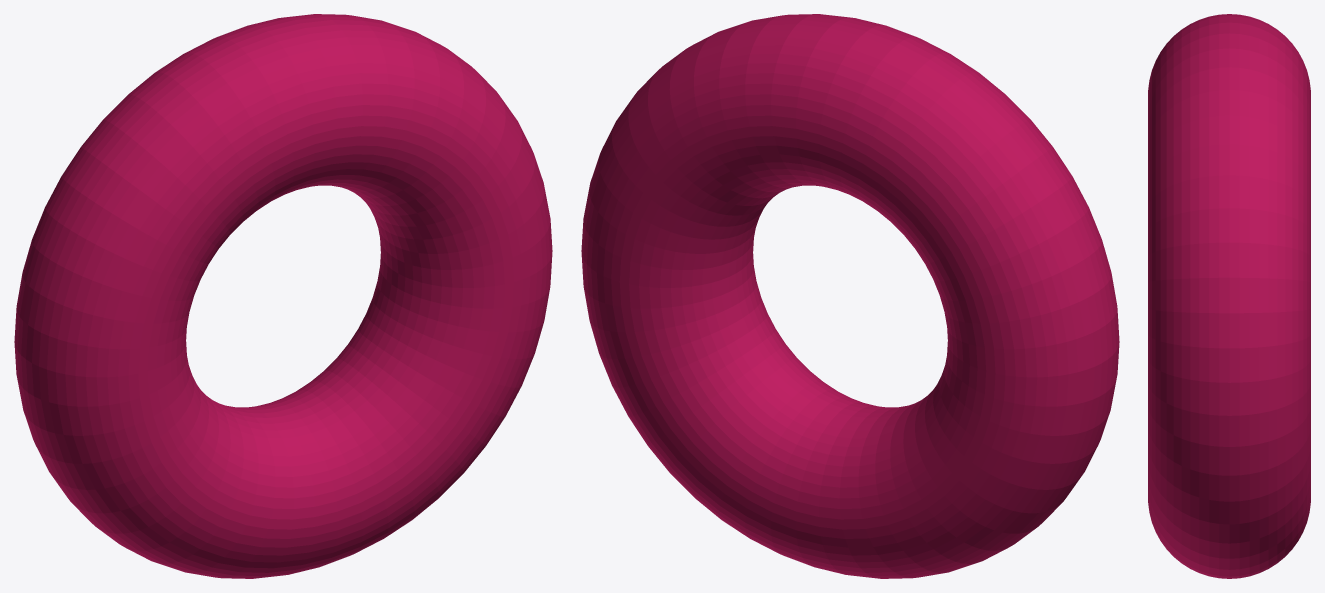
3 views of the same model, side by side, from view 1: azimuth 30°, elevation 25°; view 2: azimuth 150°, elevation 25°; view 3: azimuth 270°, elevation 25° (orthographic). The views are drawn at different scales.
Visible parts, largest first — view 1: world; view 2: world; view 3: world.
Boxes of the visible parts, left/top/right/bottom form: world: left=14, top=14, right=552, bottom=578; world: left=581, top=14, right=1119, bottom=578; world: left=1148, top=14, right=1310, bottom=578.
Size of the model in its own units: 32.8 by 32.74 by 9.45.
